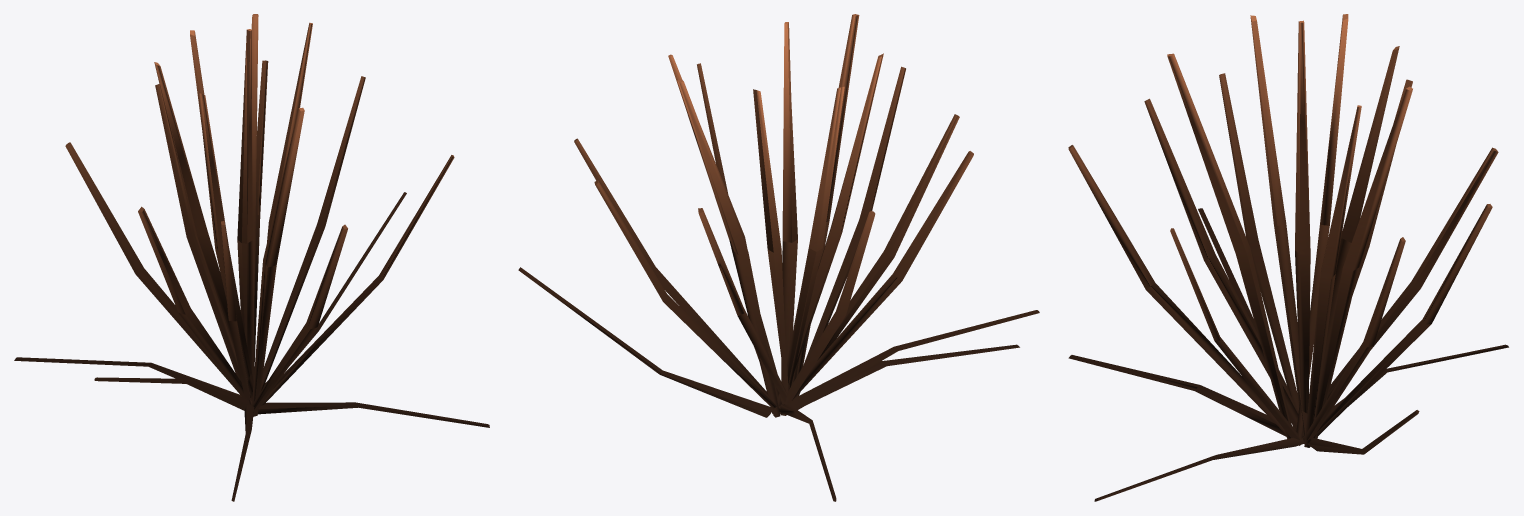
File: Canyon_Plant_001.FBX
The picture shows the model from 3 angles, left to right: view 1: azimuth 30°, elevation 25°; view 2: azimuth 150°, elevation 25°; view 3: azimuth 270°, elevation 25°; orthographic projection. The views are drawn at different scales.
Visible parts, largest first — view 1: Canyon_Plant_001; view 2: Canyon_Plant_001; view 3: Canyon_Plant_001.
Boxes of the visible parts, box(x1,y1,x2,y2) form: Canyon_Plant_001: box(14, 14, 489, 501); Canyon_Plant_001: box(518, 14, 1039, 501); Canyon_Plant_001: box(1068, 14, 1508, 501).
Size of the model in its own units: 221 by 198 by 187.
Materials: 1 (1 with a texture image).
